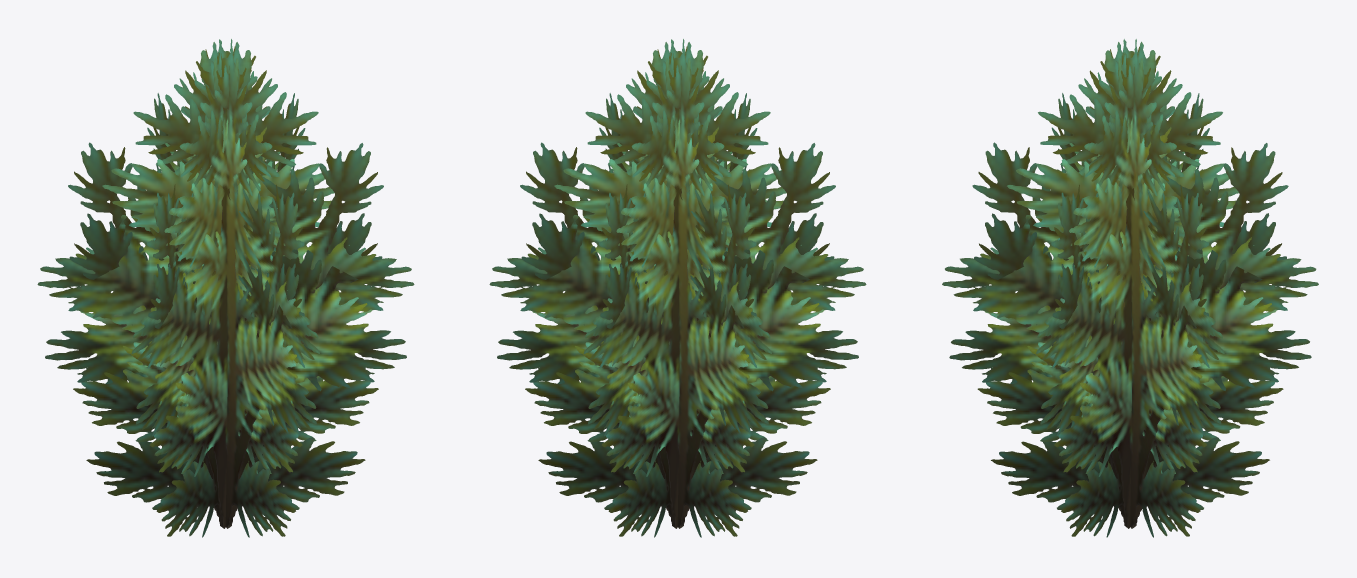
Rendered from painted-pine-3.glb.
3 renders of one model, left to right at view 1: azimuth 30°, elevation 25°; view 2: azimuth 150°, elevation 25°; view 3: azimuth 270°, elevation 25°, orthographic.
Bounding box in the file's own units: 6.59 × 10.32 × 7.6.
Materials: 1 (1 with a texture image).
